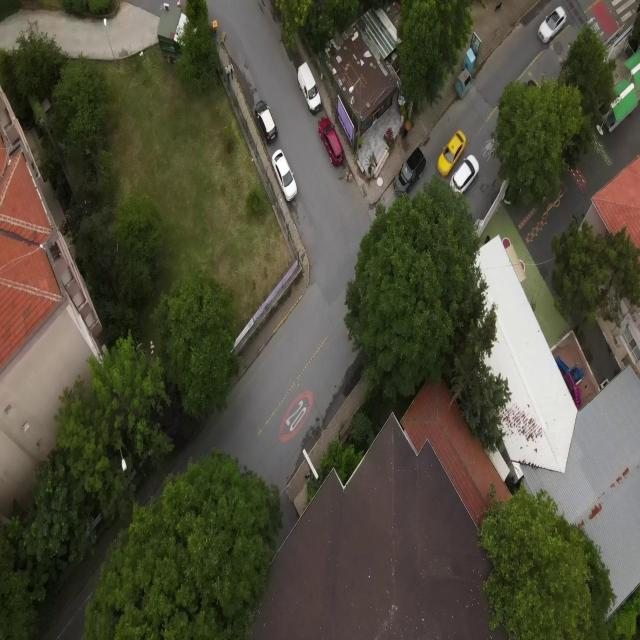p3rson: (229, 63, 234, 80), (226, 65, 230, 84)
